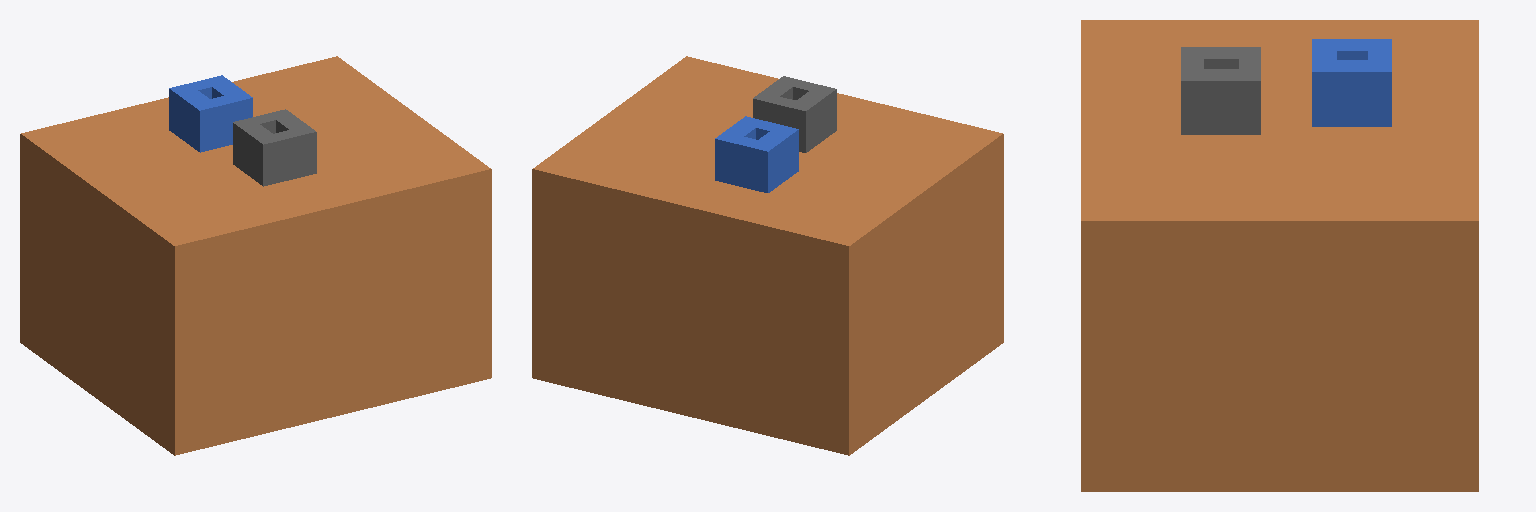
URDF robot description (peg_in_hole_fixtured_scene_0000_peg0011_tol02):
<?xml version="1.0"?>
<robot name="peg_in_hole_fixtured_scene_0000_peg0011_tol02">
  <material name="wood"><color rgba="0.82 0.56 0.35 1.0"/></material>
  <material name="start_fix"><color rgba="0.30 0.50 0.85 1.0"/></material>
  <material name="goal_fix"><color rgba="0.4706 0.4706 0.4706 1.0"/></material>
  <link name="box">
    <visual>
      <origin xyz="0.000000 0.000000 0.000000" rpy="0 0 0"/>
      <geometry><box size="0.475000 0.400000 0.300000"/></geometry>
      <material name="wood"/>
    </visual>
    <collision>
      <origin xyz="0.000000 0.000000 0.000000" rpy="0 0 0"/>
      <geometry><box size="0.475000 0.400000 0.300000"/></geometry>
    </collision>
    <visual>
      <origin xyz="-0.025385 0.072557 0.155000" rpy="0 0 0"/>
      <geometry><box size="0.080000 0.080000 0.010000"/></geometry>
      <material name="start_fix"/>
    </visual>
    <collision>
      <origin xyz="-0.025385 0.072557 0.155000" rpy="0 0 0"/>
      <geometry><box size="0.080000 0.080000 0.010000"/></geometry>
    </collision>
    <visual>
      <origin xyz="-0.000135 0.072557 0.185000" rpy="0 0 0"/>
      <geometry><box size="0.029500 0.080000 0.050000"/></geometry>
      <material name="start_fix"/>
    </visual>
    <collision>
      <origin xyz="-0.000135 0.072557 0.185000" rpy="0 0 0"/>
      <geometry><box size="0.029500 0.080000 0.050000"/></geometry>
    </collision>
    <visual>
      <origin xyz="-0.050635 0.072557 0.185000" rpy="0 0 0"/>
      <geometry><box size="0.029500 0.080000 0.050000"/></geometry>
      <material name="start_fix"/>
    </visual>
    <collision>
      <origin xyz="-0.050635 0.072557 0.185000" rpy="0 0 0"/>
      <geometry><box size="0.029500 0.080000 0.050000"/></geometry>
    </collision>
    <visual>
      <origin xyz="-0.025385 0.100307 0.185000" rpy="0 0 0"/>
      <geometry><box size="0.021000 0.024500 0.050000"/></geometry>
      <material name="start_fix"/>
    </visual>
    <collision>
      <origin xyz="-0.025385 0.100307 0.185000" rpy="0 0 0"/>
      <geometry><box size="0.021000 0.024500 0.050000"/></geometry>
    </collision>
    <visual>
      <origin xyz="-0.025385 0.044807 0.185000" rpy="0 0 0"/>
      <geometry><box size="0.021000 0.024500 0.050000"/></geometry>
      <material name="start_fix"/>
    </visual>
    <collision>
      <origin xyz="-0.025385 0.044807 0.185000" rpy="0 0 0"/>
      <geometry><box size="0.021000 0.024500 0.050000"/></geometry>
    </collision>
    <visual>
      <origin xyz="-0.006004 -0.058878 0.155000" rpy="0 0 0"/>
      <geometry><box size="0.080000 0.080000 0.010000"/></geometry>
      <material name="goal_fix"/>
    </visual>
    <collision>
      <origin xyz="-0.006004 -0.058878 0.155000" rpy="0 0 0"/>
      <geometry><box size="0.080000 0.080000 0.010000"/></geometry>
    </collision>
    <visual>
      <origin xyz="0.020171 -0.058878 0.185000" rpy="0 0 0"/>
      <geometry><box size="0.027650 0.080000 0.050000"/></geometry>
      <material name="goal_fix"/>
    </visual>
    <collision>
      <origin xyz="0.020171 -0.058878 0.185000" rpy="0 0 0"/>
      <geometry><box size="0.027650 0.080000 0.050000"/></geometry>
    </collision>
    <visual>
      <origin xyz="-0.032179 -0.058878 0.185000" rpy="0 0 0"/>
      <geometry><box size="0.027650 0.080000 0.050000"/></geometry>
      <material name="goal_fix"/>
    </visual>
    <collision>
      <origin xyz="-0.032179 -0.058878 0.185000" rpy="0 0 0"/>
      <geometry><box size="0.027650 0.080000 0.050000"/></geometry>
    </collision>
    <visual>
      <origin xyz="-0.006004 -0.030203 0.185000" rpy="0 0 0"/>
      <geometry><box size="0.024700 0.022650 0.050000"/></geometry>
      <material name="goal_fix"/>
    </visual>
    <collision>
      <origin xyz="-0.006004 -0.030203 0.185000" rpy="0 0 0"/>
      <geometry><box size="0.024700 0.022650 0.050000"/></geometry>
    </collision>
    <visual>
      <origin xyz="-0.006004 -0.087553 0.185000" rpy="0 0 0"/>
      <geometry><box size="0.024700 0.022650 0.050000"/></geometry>
      <material name="goal_fix"/>
    </visual>
    <collision>
      <origin xyz="-0.006004 -0.087553 0.185000" rpy="0 0 0"/>
      <geometry><box size="0.024700 0.022650 0.050000"/></geometry>
    </collision>
    <inertial>
      <mass value="500"/>
      <friction value="1.0"/>
      <inertia ixx="1000.0" ixy="0.0" ixz="0.0" iyy="1000.0" iyz="0.0" izz="1000.0"/>
    </inertial>
  </link>
</robot>

--- Render facts (derived) ---
The picture shows the robot from 3 angles, left to right: view 1: azimuth 30°, elevation 25°; view 2: azimuth 150°, elevation 25°; view 3: azimuth 270°, elevation 25°; orthographic projection.
Robot: peg_in_hole_fixtured_scene_0000_peg0011_tol02 — 1 links, 0 joints (none); root link box; default pose: all joints at 0.
Visible links, largest first — view 1: box; view 2: box; view 3: box.
Link boxes in pixels (box(x1,y1,x2,y2)): box: box(20, 56, 491, 455); box: box(532, 56, 1003, 455); box: box(1081, 20, 1478, 491).
Size in the robot's own frame: 0.475 by 0.4 by 0.36 metres.
Geometry: primitives only (box / cylinder / sphere), no mesh files.
